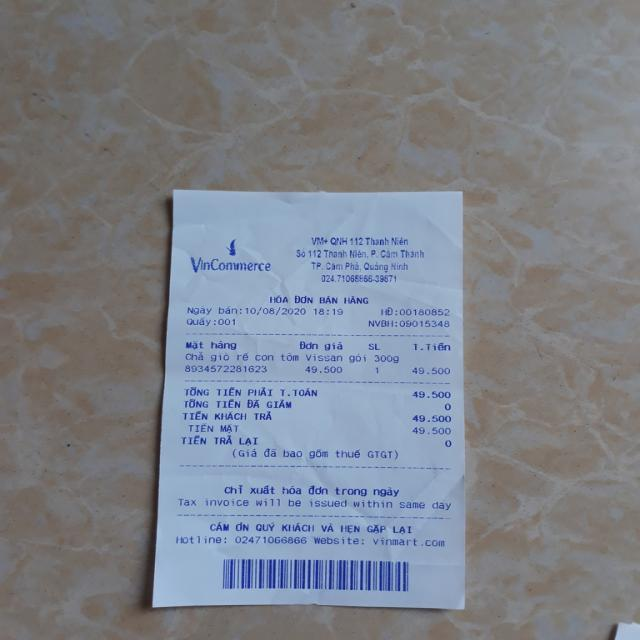Date: (245, 304, 308, 320)
Store_Name: (188, 254, 274, 274)
amount_number: (412, 388, 454, 402)
label_total: (181, 383, 319, 400)
